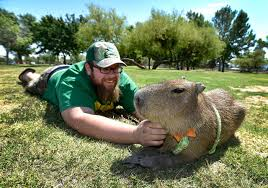capivara: (127, 76, 248, 168)
